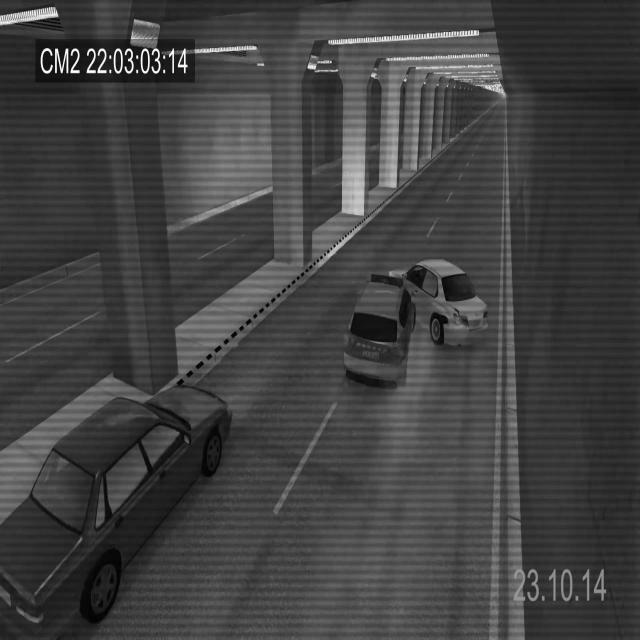accident: (343, 257, 489, 390)
vehicle: (0, 380, 235, 640)
